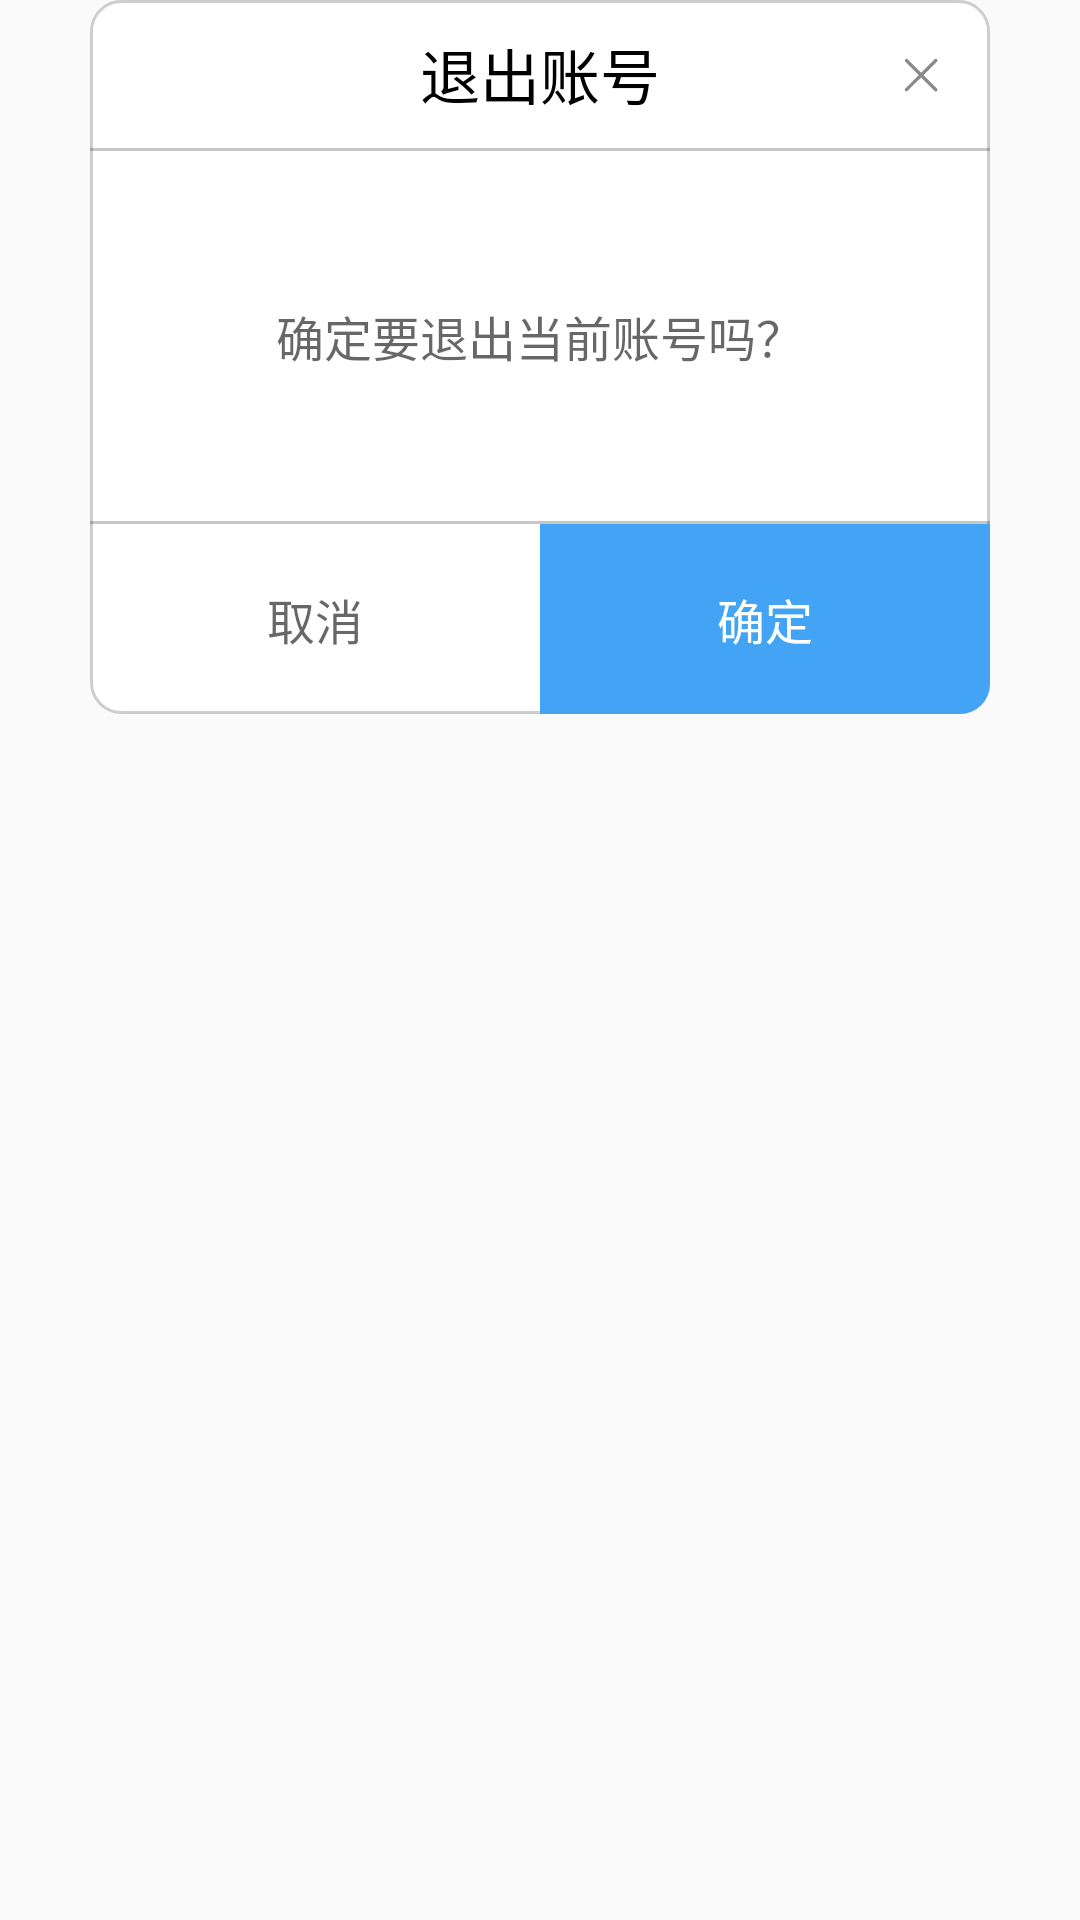

Point at icon controls on the screen. Image size 1080x1920, points as (x=x, y=y).
error: (x=921, y=75)
